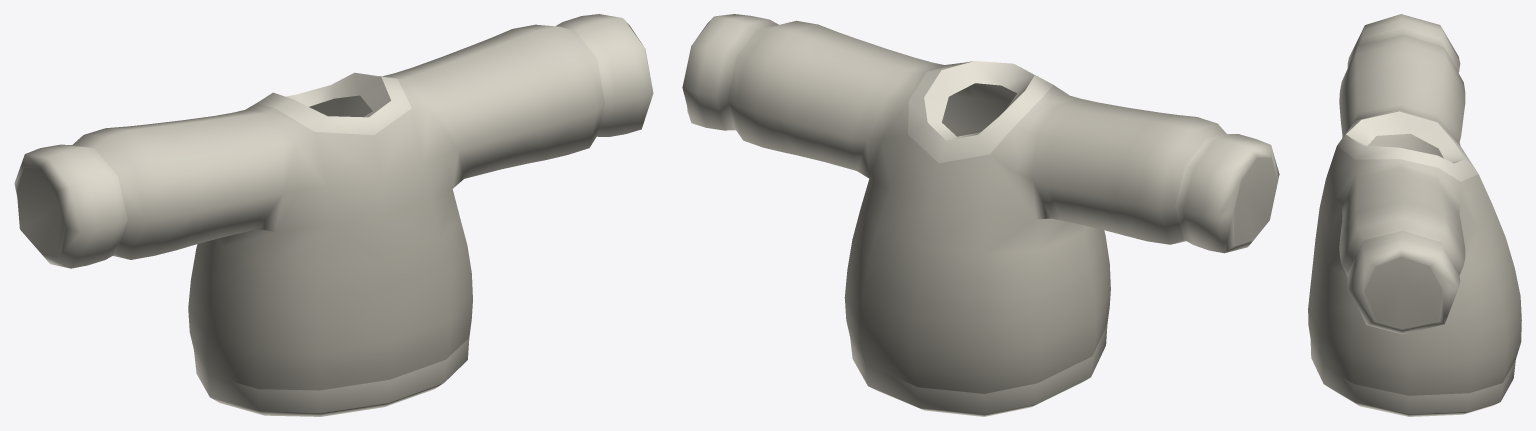
The model's file is Top_12.fbx.
3 views of the same model, side by side, from view 1: azimuth 30°, elevation 25°; view 2: azimuth 150°, elevation 25°; view 3: azimuth 270°, elevation 25° (orthographic). The views are drawn at different scales.
Visible parts, largest first — view 1: Top_12; view 2: Top_12; view 3: Top_12.
Boxes of the visible parts, x1,y1,x2,y2 form: Top_12: (14, 14, 653, 416); Top_12: (682, 14, 1279, 416); Top_12: (1308, 14, 1521, 416).
Bounding box in the file's own units: 98 × 49.7 × 37.16.
